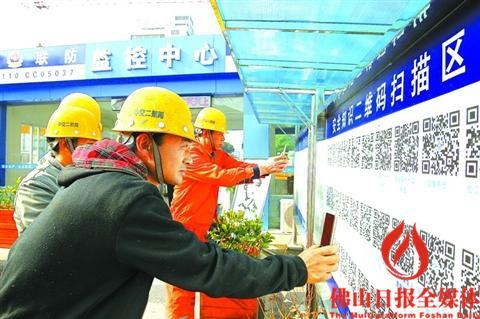helmet: (111, 89, 196, 141), (43, 94, 104, 140), (198, 106, 229, 135)
